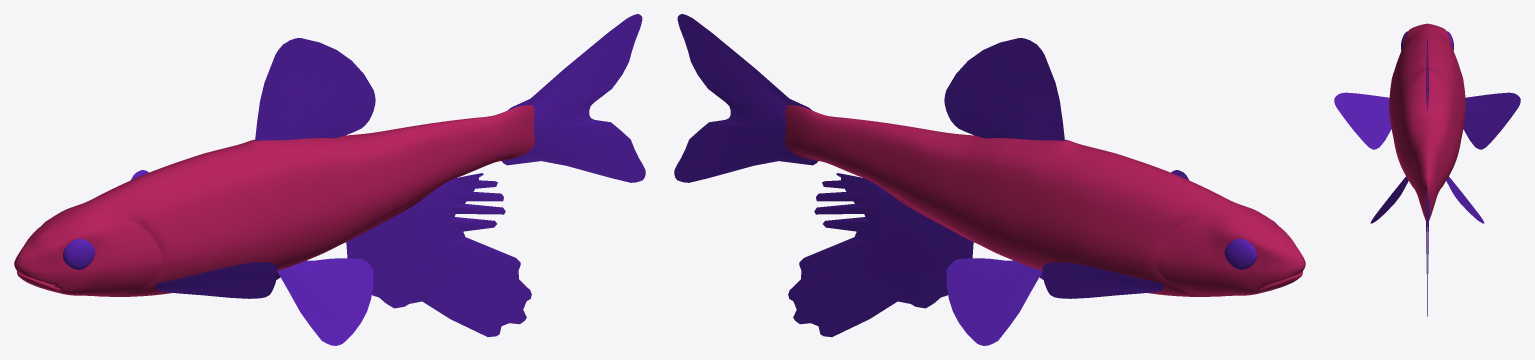
File: fish.obj
3 renders of one model, left to right at view 1: azimuth 30°, elevation 25°; view 2: azimuth 150°, elevation 25°; view 3: azimuth 270°, elevation 25°, orthographic. The views are drawn at different scales.
Visible parts, largest first — view 1: object, object7, object8, object2, object5, object3, object9; view 2: object, object7, object8, object2, object6, object4, object10; view 3: object, object4, object3, object6, object5, object8, object2.
Boxes of the visible parts, x1=… form: object: x1=14, y1=105, x2=534, y2=296; object7: x1=346, y1=173, x2=531, y2=337; object8: x1=501, y1=14, x2=645, y2=182; object2: x1=255, y1=38, x2=375, y2=140; object5: x1=277, y1=258, x2=373, y2=345; object3: x1=155, y1=262, x2=277, y2=298; object9: x1=63, y1=238, x2=95, y2=269; object: x1=785, y1=104, x2=1305, y2=296; object7: x1=788, y1=173, x2=973, y2=337; object8: x1=674, y1=14, x2=818, y2=182; object2: x1=944, y1=38, x2=1064, y2=140; object6: x1=946, y1=258, x2=1042, y2=345; object4: x1=1042, y1=262, x2=1164, y2=298; object10: x1=1224, y1=238, x2=1256, y2=269; object: x1=1389, y1=23, x2=1465, y2=226; object4: x1=1463, y1=92, x2=1520, y2=149; object3: x1=1334, y1=92, x2=1391, y2=149; object6: x1=1446, y1=176, x2=1484, y2=223; object5: x1=1370, y1=176, x2=1408, y2=223; object8: x1=1425, y1=188, x2=1429, y2=275; object2: x1=1426, y1=38, x2=1428, y2=110.
Bounding box in the file's own units: 399 × 210 × 140.
